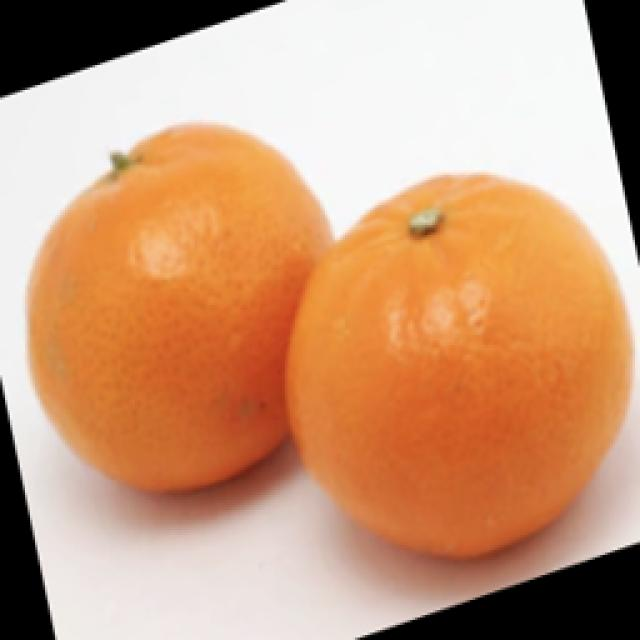Fresh_Orange: (17, 29, 640, 580)
